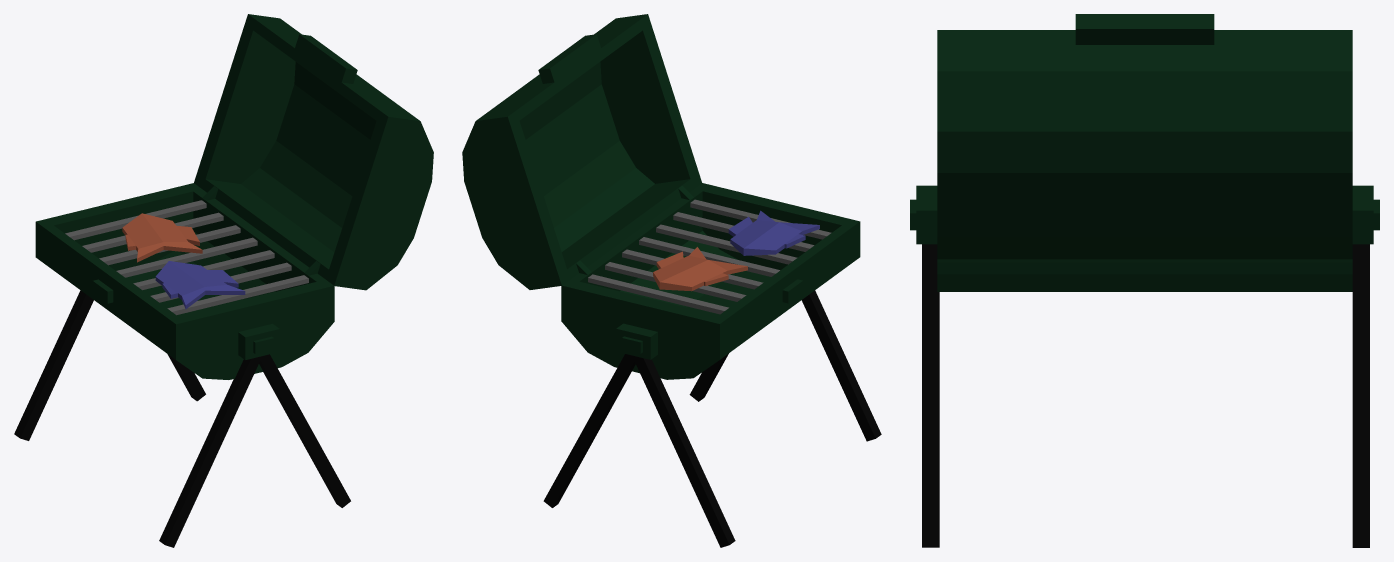
Rendered from Grill.fbx.
The picture shows the model from 3 angles, left to right: view 1: azimuth 30°, elevation 25°; view 2: azimuth 150°, elevation 25°; view 3: azimuth 270°, elevation 25°; orthographic projection. The views are drawn at different scales.
Parts seen in each view (by area): view 1: Cube.097, Cube.142, Cube.143, Cube.145, Cube.144, Cube.146; view 2: Cube.097, Cube.142, Cube.145, Cube.143, Cube.146, Cube.144; view 3: Cube.097, Cube.146, Cube.144.
Boxes of the visible parts, x1=… form: Cube.097: x1=35, y1=14, x2=433, y2=379; Cube.142: x1=65, y1=200, x2=308, y2=315; Cube.143: x1=159, y1=357, x2=260, y2=547; Cube.145: x1=14, y1=290, x2=93, y2=440; Cube.144: x1=258, y1=354, x2=350, y2=507; Cube.146: x1=167, y1=354, x2=205, y2=401; Cube.097: x1=462, y1=14, x2=860, y2=379; Cube.142: x1=588, y1=199, x2=831, y2=314; Cube.145: x1=632, y1=355, x2=735, y2=547; Cube.143: x1=801, y1=290, x2=881, y2=441; Cube.146: x1=543, y1=354, x2=635, y2=507; Cube.144: x1=689, y1=353, x2=728, y2=401; Cube.097: x1=910, y1=14, x2=1379, y2=291; Cube.146: x1=1352, y1=244, x2=1369, y2=547; Cube.144: x1=922, y1=244, x2=939, y2=547.
Bounding box in the file's own units: 346 × 468 × 347.
